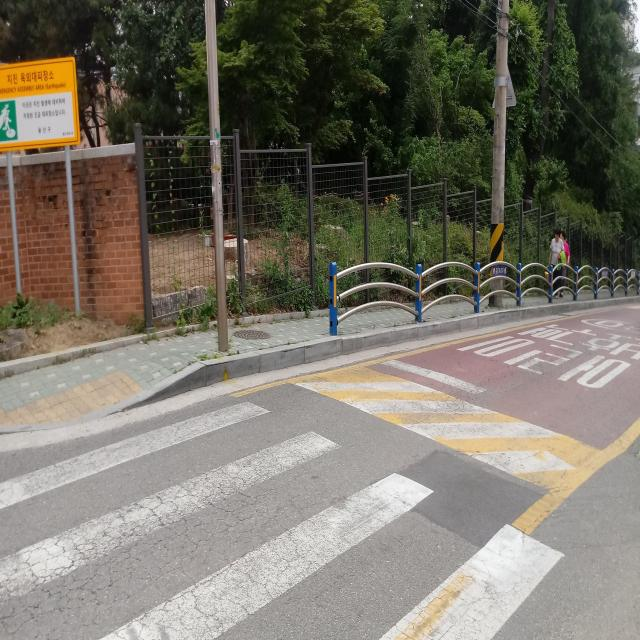횡단보도: (0, 395, 567, 640)
